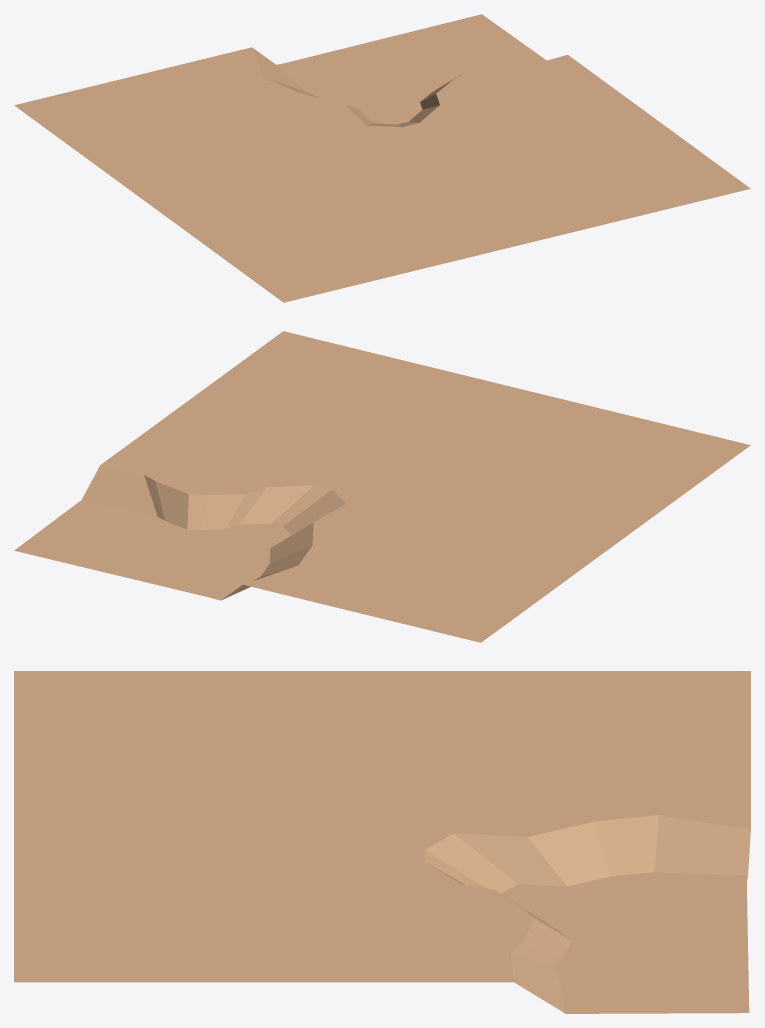
The model's file is fundo1.glb.
The picture shows the model from 3 angles, top to bottom: view 1: azimuth 30°, elevation 25°; view 2: azimuth 150°, elevation 25°; view 3: azimuth 270°, elevation 25°; orthographic projection. The views are drawn at different scales.
Visible parts, largest first — view 1: Cube; view 2: Cube; view 3: Cube.
Boxes of the visible parts, x1,y1,x2,y2 form: Cube: (14, 14, 750, 302); Cube: (14, 331, 750, 642); Cube: (14, 671, 750, 1013).
Bounding box in the file's own units: 201 × 9.17 × 200.
1 material, 1 textured.
